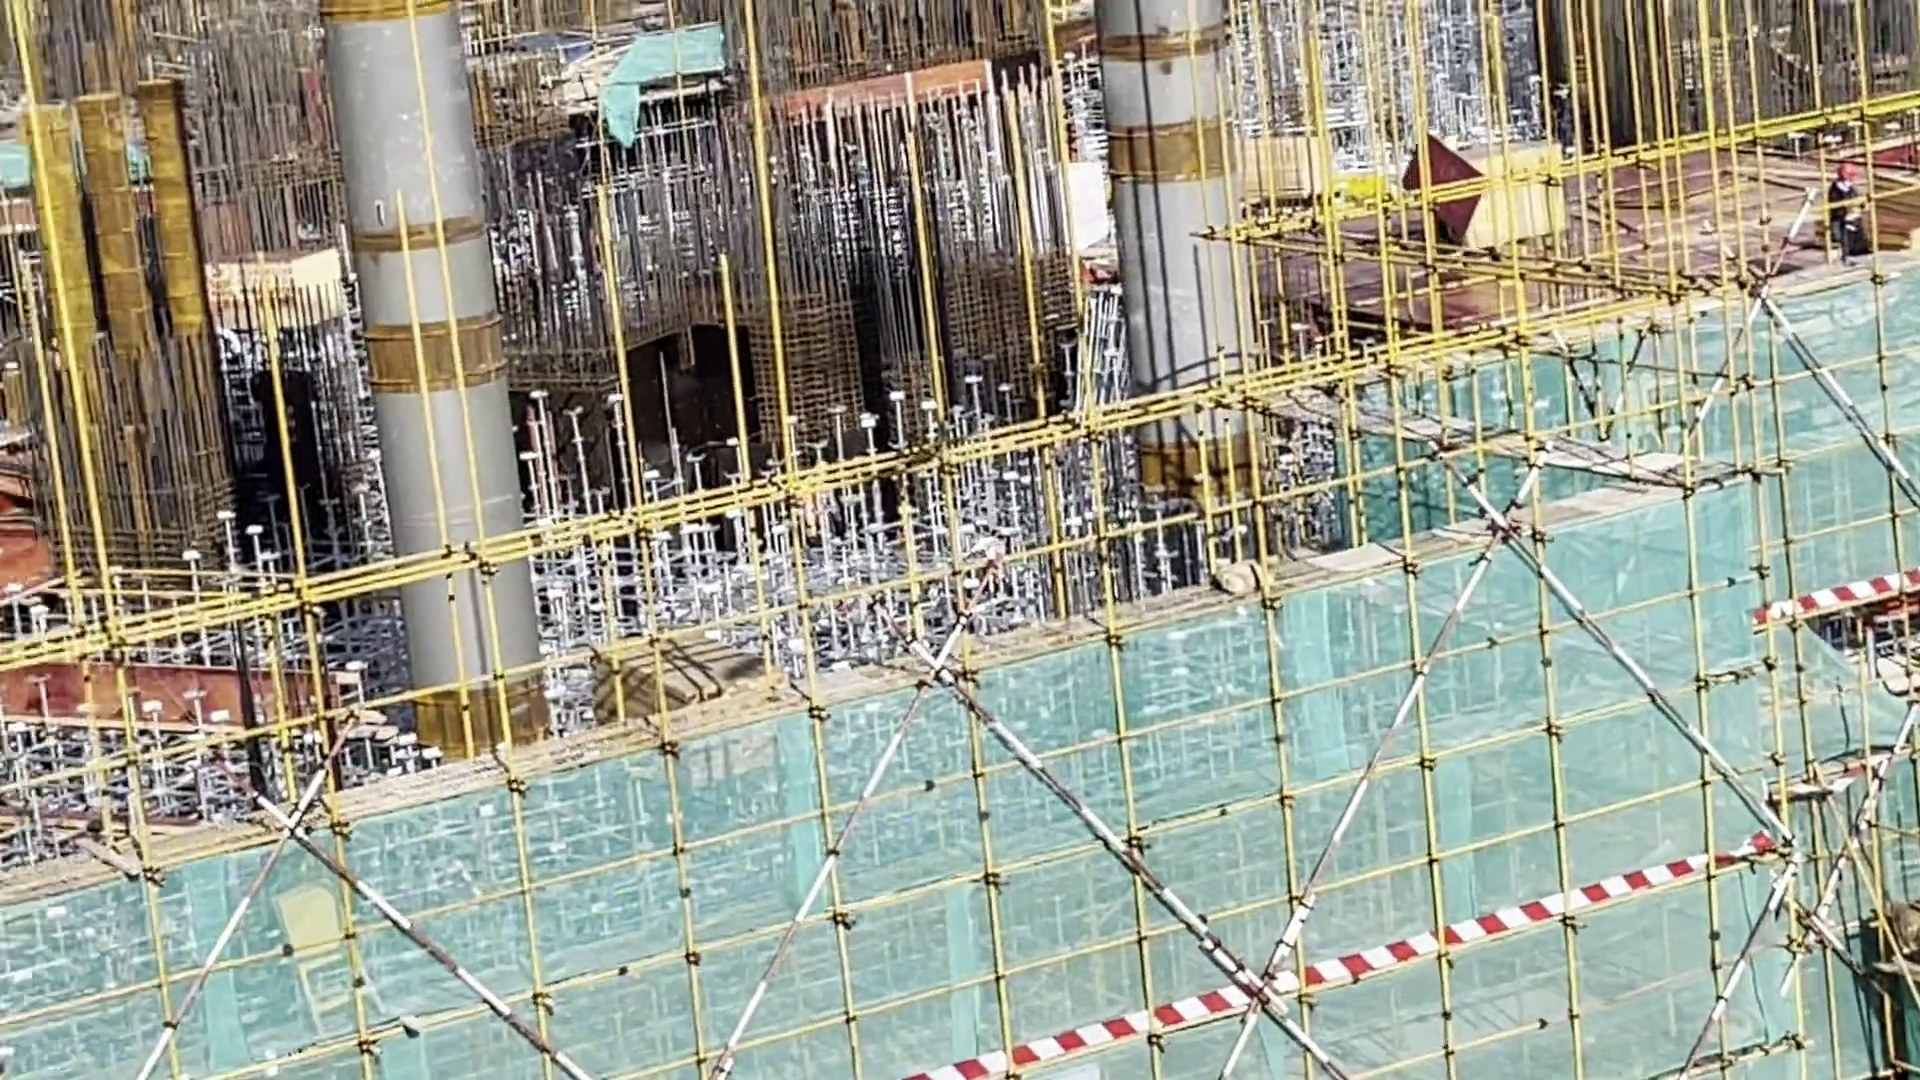ebox: (266, 884, 385, 1028)
helmet: (1838, 158, 1863, 189)
person: (1820, 159, 1877, 264)
